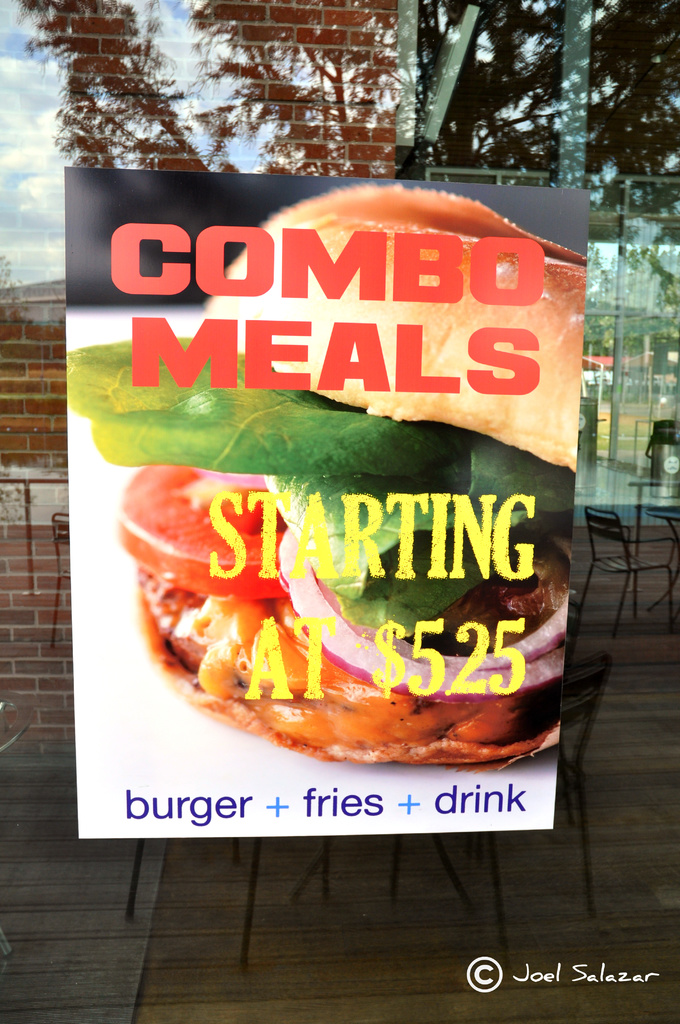Hamburger: (62, 180, 591, 766)
